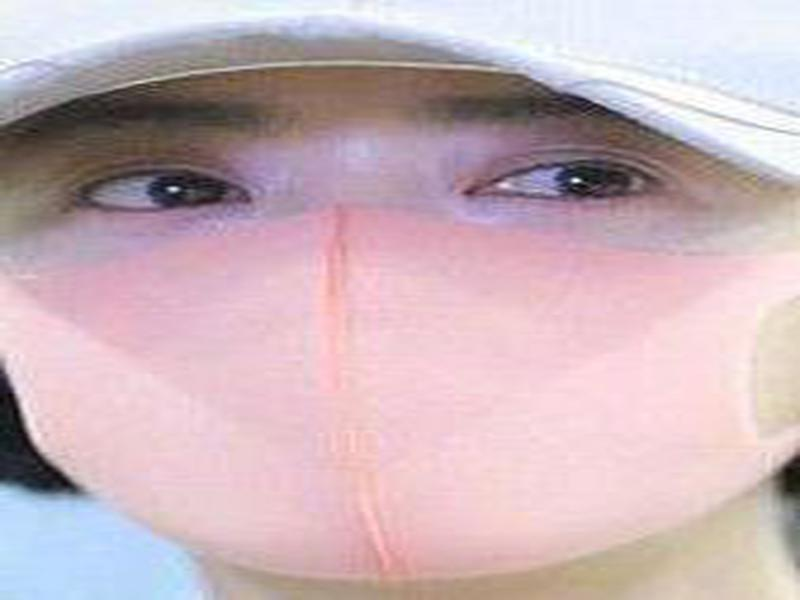with_mask: (5, 79, 800, 600)
